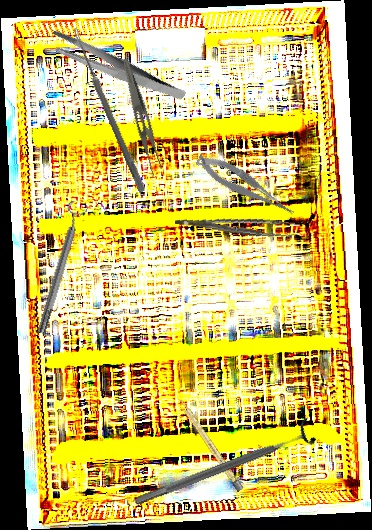Dressing Forceps: (44, 3, 188, 132), (109, 57, 170, 179)
Fixation Ring: (129, 416, 319, 516), (29, 199, 91, 337)
Micro Scissor: (192, 144, 298, 229)
Scalpel Handle: (176, 396, 244, 493)
Surgical Spoon: (70, 26, 147, 194)
Tissue Forceps: (174, 204, 301, 244)
